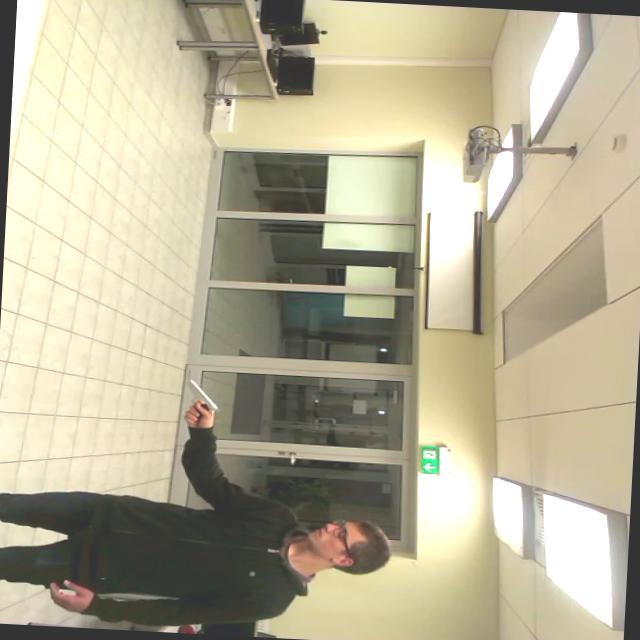handgun: (173, 375, 229, 426)
